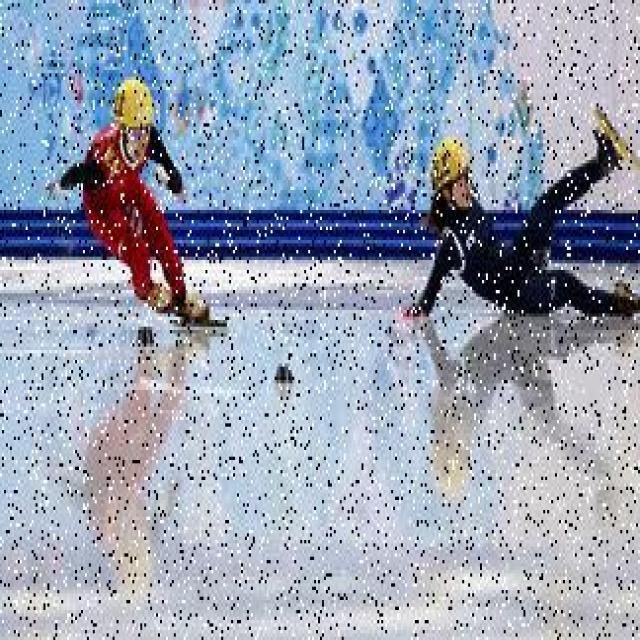fall: (415, 124, 638, 316)
